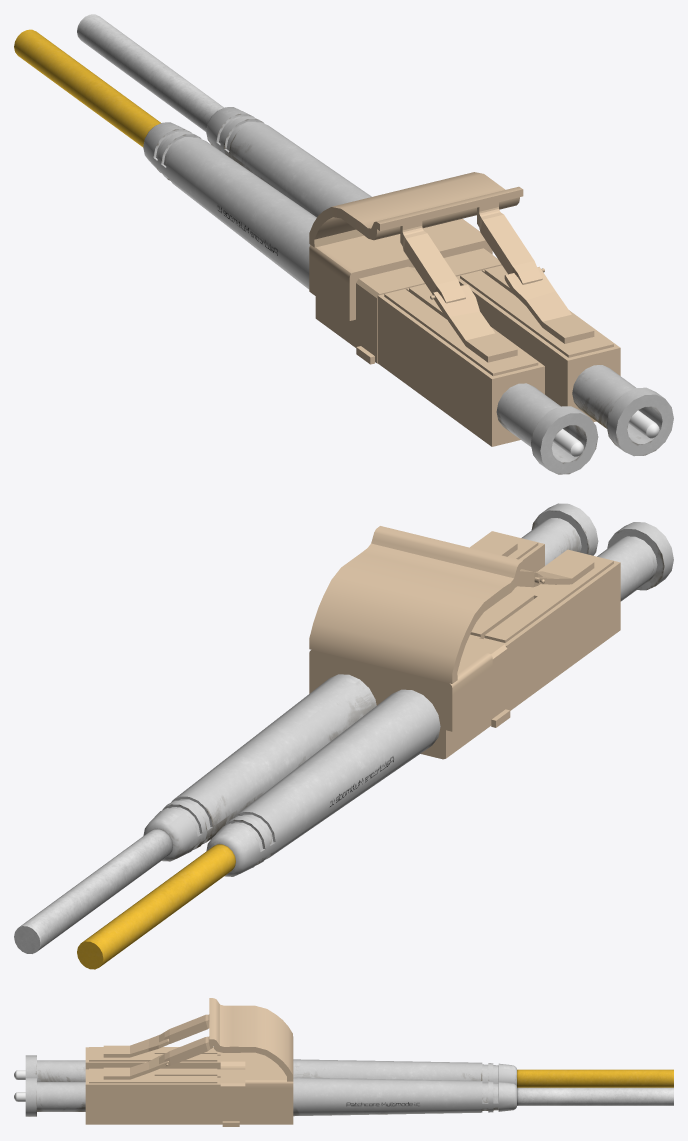
Rendered from Patchcore multimode lc.fbx.
3 views of the same model, one above another, from view 1: azimuth 30°, elevation 25°; view 2: azimuth 150°, elevation 25°; view 3: azimuth 270°, elevation 25° (orthographic). The views are drawn at different scales.
Visible parts, largest first — view 1: Cube, Cylinder.002, Cylinder, Cube.003, Cylinder.003, Cube.004, Cube.002, Cube.001, Cylinder.001; view 2: Cylinder.002, Cube.004, Cube, Cylinder.003, Cylinder, Cube.001, Cube.002, Cube.003; view 3: Cylinder.002, Cube, Cylinder.003, Cube.004, Cylinder, Cube.003, Cube.001, Cube.002, Cylinder.001.
Boxes of the visible parts, box(x1,y1,x2,y2) form: Cube: box(377, 265, 620, 446); Cylinder.002: box(143, 107, 371, 289); Cylinder: box(496, 365, 673, 474); Cube.003: box(400, 202, 594, 362); Cylinder.003: box(14, 14, 223, 147); Cube.004: box(309, 172, 523, 247); Cube.002: box(309, 218, 492, 320); Cube.001: box(315, 248, 501, 364); Cylinder.001: box(553, 410, 659, 456); Cylinder.002: box(143, 674, 440, 876); Cube.004: box(309, 526, 523, 683); Cube: box(469, 531, 620, 710); Cylinder.003: box(14, 829, 235, 969); Cylinder: box(521, 503, 673, 601); Cube.001: box(315, 636, 510, 759); Cube.002: box(309, 648, 492, 731); Cube.003: box(472, 536, 594, 587); Cylinder.002: box(293, 1059, 516, 1116); Cube: box(85, 1047, 220, 1124); Cylinder.003: box(517, 1069, 673, 1105); Cube.004: box(209, 998, 293, 1081); Cylinder: box(25, 1055, 85, 1116); Cube.003: box(103, 1014, 212, 1079); Cube.001: box(220, 1052, 293, 1126); Cube.002: box(245, 1052, 293, 1109); Cylinder.001: box(14, 1070, 25, 1101).
Size of the model in its own units: 125 by 125 by 848.
Materials: 1 (1 with a texture image).
